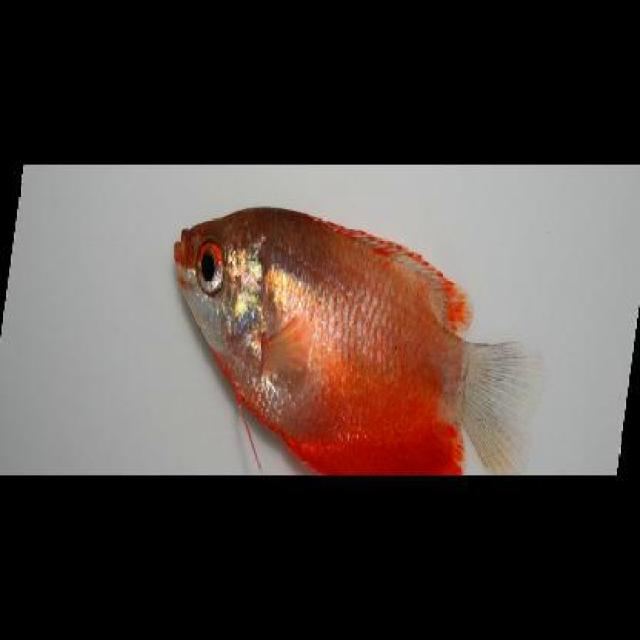Gourami: (176, 204, 547, 473)
